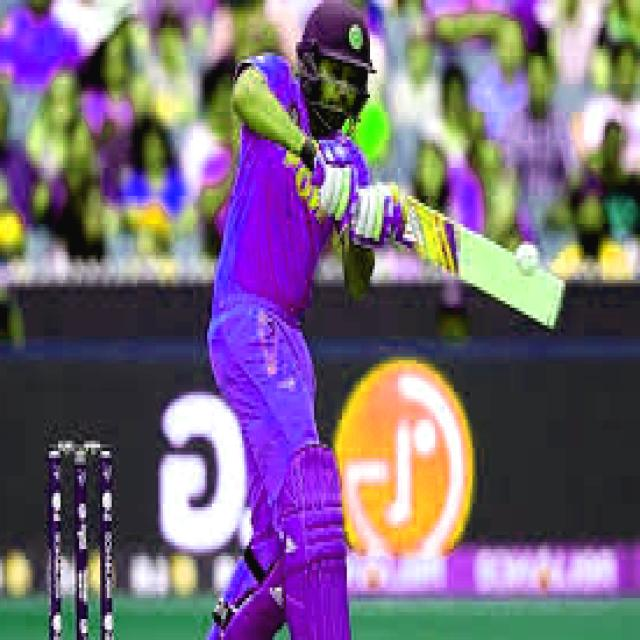toe: (542, 282, 570, 330)
